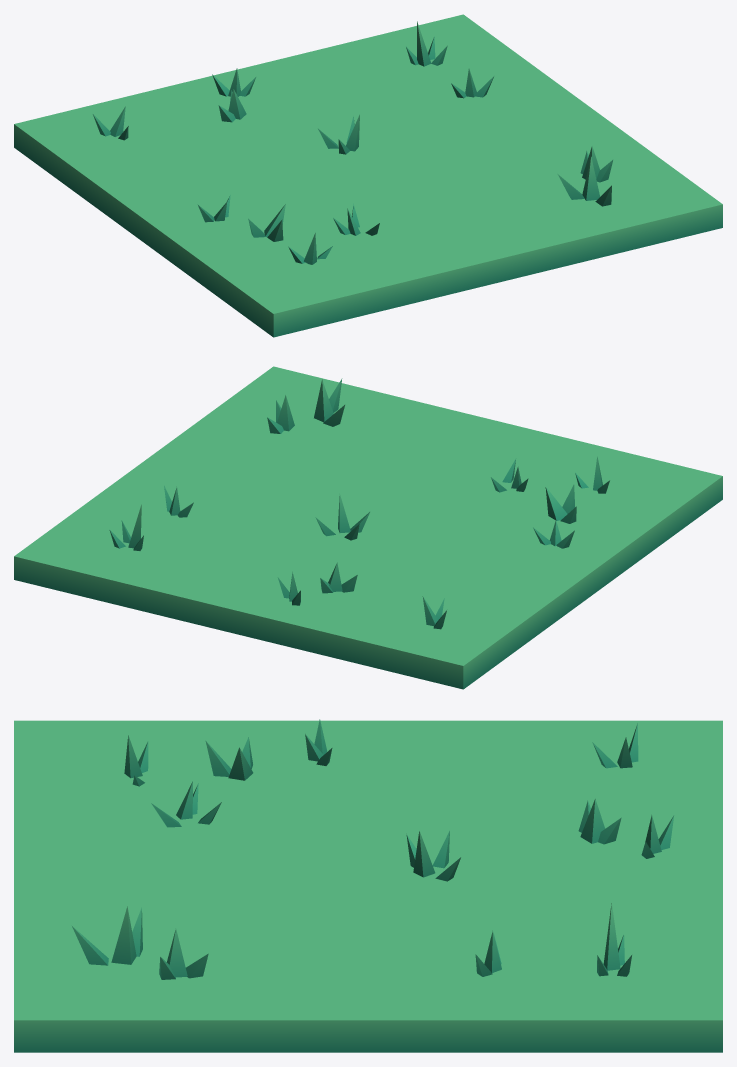
Rendered from grass.glb.
3 renders of one model, top to bottom at view 1: azimuth 30°, elevation 25°; view 2: azimuth 150°, elevation 25°; view 3: azimuth 270°, elevation 25°, orthographic. The views are drawn at different scales.
Parts seen in each view (by area): view 1: grass; view 2: grass; view 3: grass.
Part boxes in pixels (x1,y1,x2,y2): grass: [14, 14, 722, 337]; grass: [14, 366, 722, 689]; grass: [14, 719, 722, 1052].
Bounding box in the file's own units: 1 × 0.1448 × 1.
Materials: 1 (1 with a texture image).
